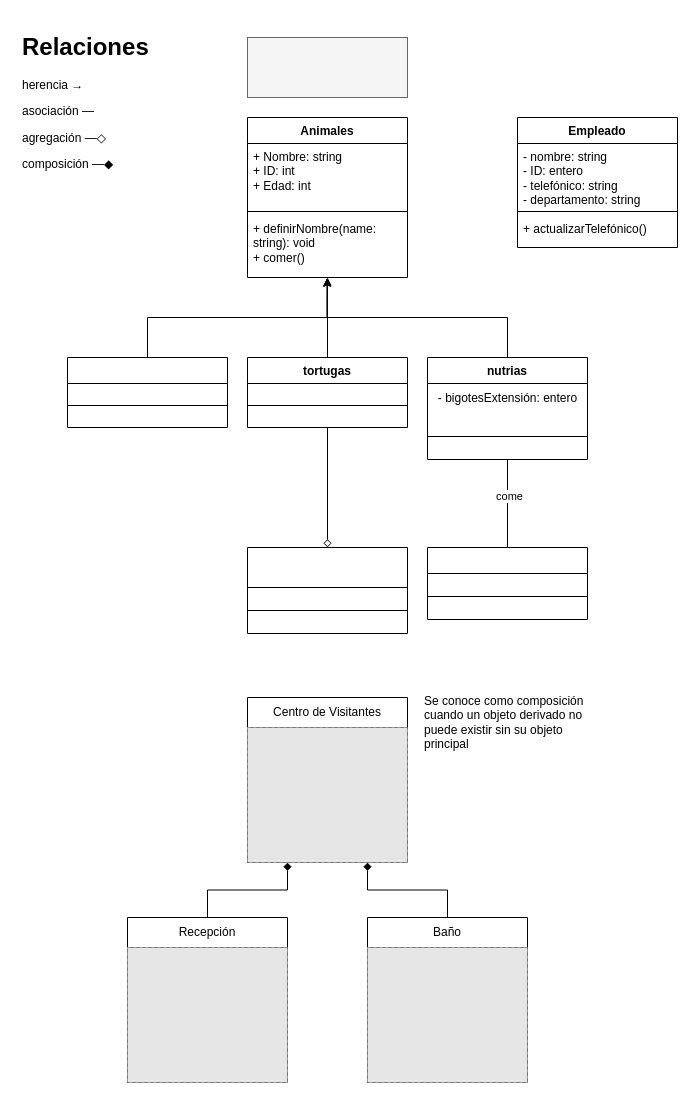
This 695x1100 diagram has some shape labels left out. Grey dashed boxes stand in for pictures. Each missing label, with the centre of its shape:
erizos de mar: (507,583)
loris: (147,392)
Sistema Zoológico: (327,67)
tortuguero (grupo de tortugas): (327,590)
